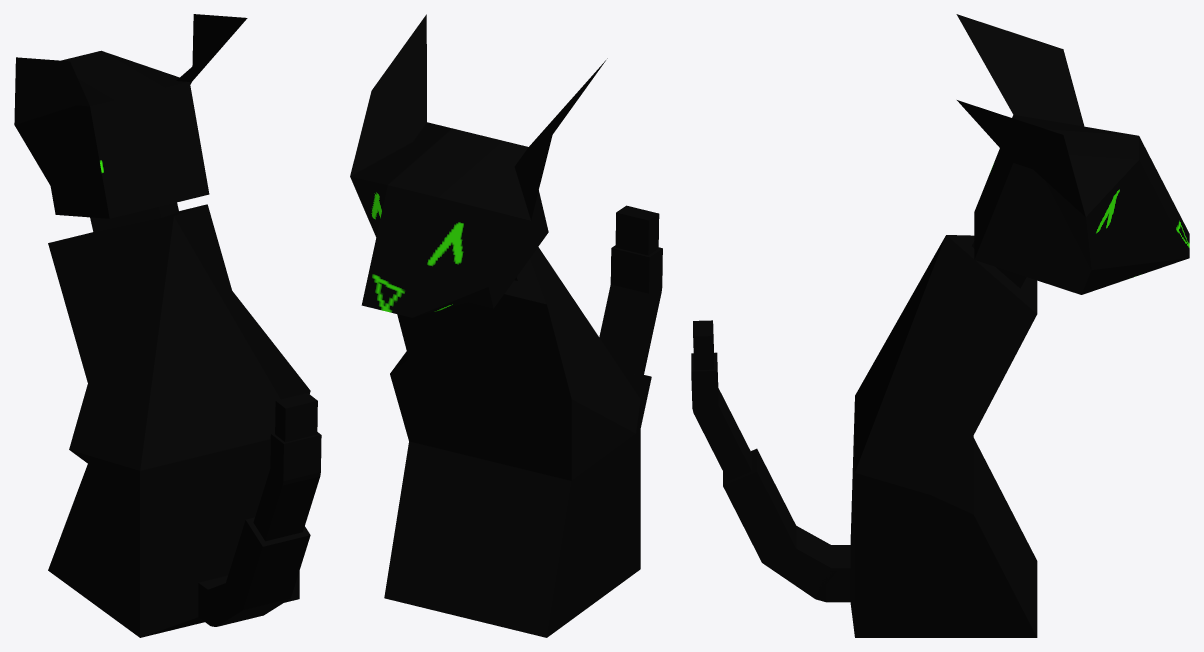
File: cat.glb
3 renders of one model, left to right at view 1: azimuth 30°, elevation 25°; view 2: azimuth 150°, elevation 25°; view 3: azimuth 270°, elevation 25°, orthographic. The views are drawn at different scales.
Visible parts, largest first — view 1: cat; view 2: cat; view 3: cat.
Part boxes in pixels (bbox=[...]): cat: bbox=[14, 14, 321, 637]; cat: bbox=[350, 14, 662, 637]; cat: bbox=[691, 14, 1189, 637].
Size of the model in its own units: 0.2201 by 0.4732 by 0.3975.
Materials: 1 (1 with a texture image).
